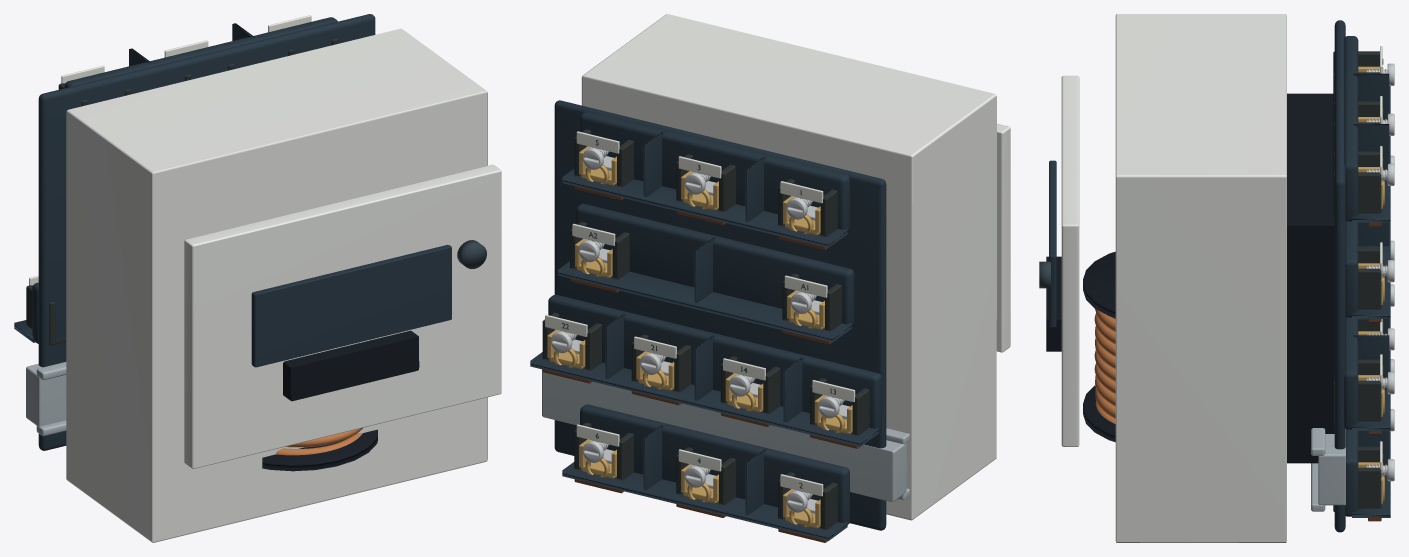
The model's file is contactor_default.glb.
The picture shows the model from 3 angles, left to right: view 1: azimuth 30°, elevation 25°; view 2: azimuth 150°, elevation 25°; view 3: azimuth 270°, elevation 25°; orthographic projection.
Visible parts, largest first — view 1: part:body, part:cover, part:terminals · Original a463fd81, part:mounting · Original 2a8198d3, part:coil · Original 3ff2d46d, part:coil, part:body.001, detail:terminal-clamp:13 · Detail moulded engineering polyme; view 2: part:terminals · Original a463fd81, part:body, part:mounting · Original 2a8198d3, part:cover, detail:terminal-clamp:14 · Detail moulded engineering polyme, detail:terminal-clamp:21 · Detail moulded engineering polyme, detail:terminal-clamp:2 · Detail moulded engineering polymer, detail:terminal-clamp:22 · Detail moulded engineering polyme, detail:terminal-clamp:1 · Detail moulded engineering polymer, detail:terminal-clamp:13 · Detail moulded engineering polyme, detail:terminal-clamp:A2 · Detail moulded engineering polyme, detail:terminal-clamp:A1 · Detail moulded engineering polyme (+23 smaller); view 3: part:body, part:terminals · Original a463fd81, part:cover, part:coil · Original 3ff2d46d, part:mounting · Original 2a8198d3, part:coil, detail:terminal-clamp:5 · Detail moulded engineering polymer, detail:terminal-clamp:22 · Detail moulded engineering polyme, detail:terminal-clamp:6 · Detail moulded engineering polymer, detail:terminal-clamp:A2 · Detail moulded engineering polyme, detail:terminal-clamp:3 · Detail moulded engineering polymer, detail:terminal-clamp:1 · Detail moulded engineering polymer.
Part boxes in pixels (x1,y1,x2,y2): part:body: [66, 28, 487, 542]; part:cover: [184, 164, 501, 468]; part:terminals · Original a463fd81: [14, 14, 375, 450]; part:mounting · Original 2a8198d3: [26, 362, 66, 436]; part:coil · Original 3ff2d46d: [262, 429, 377, 471]; part:coil: [275, 428, 362, 455]; part:body.001: [457, 240, 486, 268]; detail:terminal-clamp:13 · Detail moulded engineering polyme: [26, 285, 66, 345]; part:terminals · Original a463fd81: [530, 100, 886, 540]; part:body: [581, 14, 996, 520]; part:mounting · Original 2a8198d3: [542, 369, 909, 501]; part:cover: [996, 123, 1010, 352]; detail:terminal-clamp:14 · Detail moulded engineering polyme: [720, 356, 780, 414]; detail:terminal-clamp:21 · Detail moulded engineering polyme: [631, 334, 691, 392]; detail:terminal-clamp:2 · Detail moulded engineering polymer: [778, 472, 837, 530]; detail:terminal-clamp:22 · Detail moulded engineering polyme: [542, 312, 601, 370]; detail:terminal-clamp:1 · Detail moulded engineering polymer: [778, 179, 837, 237]; detail:terminal-clamp:13 · Detail moulded engineering polyme: [810, 378, 869, 435]; detail:terminal-clamp:A2 · Detail moulded engineering polyme: [570, 221, 629, 279]; detail:terminal-clamp:A1 · Detail moulded engineering polyme: [782, 273, 841, 331]; part:body: [1115, 14, 1334, 542]; part:terminals · Original a463fd81: [1334, 20, 1390, 532]; part:cover: [1046, 75, 1079, 446]; part:coil · Original 3ff2d46d: [1083, 251, 1115, 442]; part:mounting · Original 2a8198d3: [1311, 428, 1345, 511]; part:coil: [1094, 309, 1115, 423]; detail:terminal-clamp:5 · Detail moulded engineering polymer: [1333, 151, 1382, 216]; detail:terminal-clamp:22 · Detail moulded engineering polyme: [1333, 359, 1382, 424]; detail:terminal-clamp:6 · Detail moulded engineering polymer: [1333, 446, 1382, 511]; detail:terminal-clamp:A2 · Detail moulded engineering polyme: [1358, 247, 1382, 309]; detail:terminal-clamp:3 · Detail moulded engineering polymer: [1333, 101, 1380, 152]; detail:terminal-clamp:1 · Detail moulded engineering polymer: [1333, 51, 1380, 101].
Size of the model in its own units: 0.9577 by 0.949 by 0.8296.
